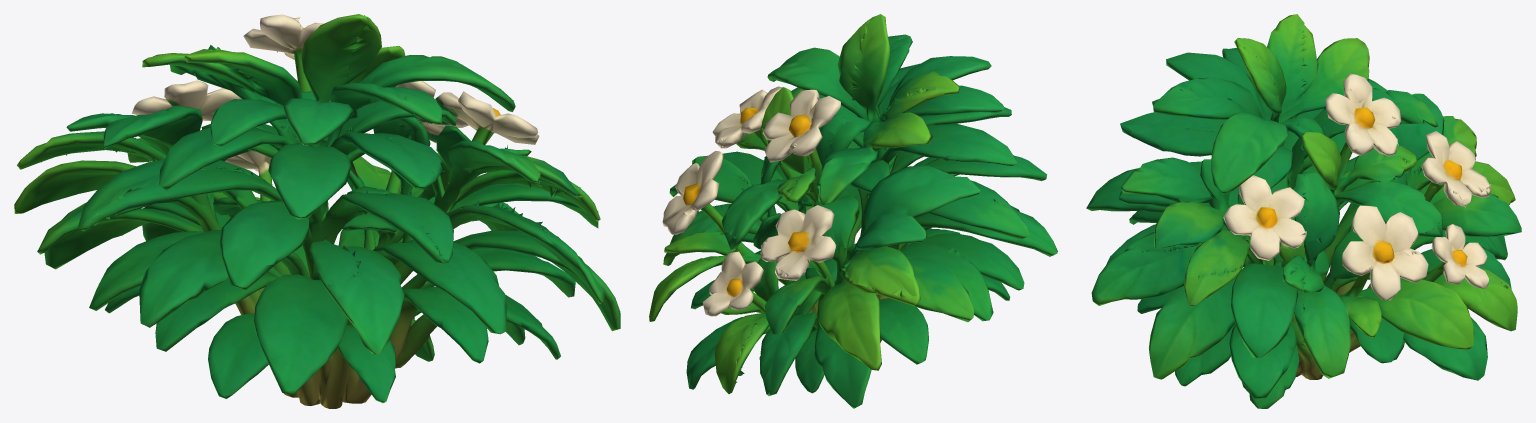
Rendered from display.glb.
3 renders of one model, left to right at view 1: azimuth 30°, elevation 25°; view 2: azimuth 150°, elevation 25°; view 3: azimuth 270°, elevation 25°, orthographic. The views are drawn at different scales.
Parts seen in each view (by area): view 1: tripo_node_1bf24f85-bc24-44a5-b9d8-a75fb9977e6f; view 2: tripo_node_1bf24f85-bc24-44a5-b9d8-a75fb9977e6f; view 3: tripo_node_1bf24f85-bc24-44a5-b9d8-a75fb9977e6f.
Boxes of the visible parts, <box> form: tripo_node_1bf24f85-bc24-44a5-b9d8-a75fb9977e6f: <box>14,14,620,408</box>; tripo_node_1bf24f85-bc24-44a5-b9d8-a75fb9977e6f: <box>649,14,1057,408</box>; tripo_node_1bf24f85-bc24-44a5-b9d8-a75fb9977e6f: <box>1086,14,1521,408</box>.
Bounding box in the file's own units: 0.9849 × 0.7898 × 0.962.
1 material, 1 textured.
